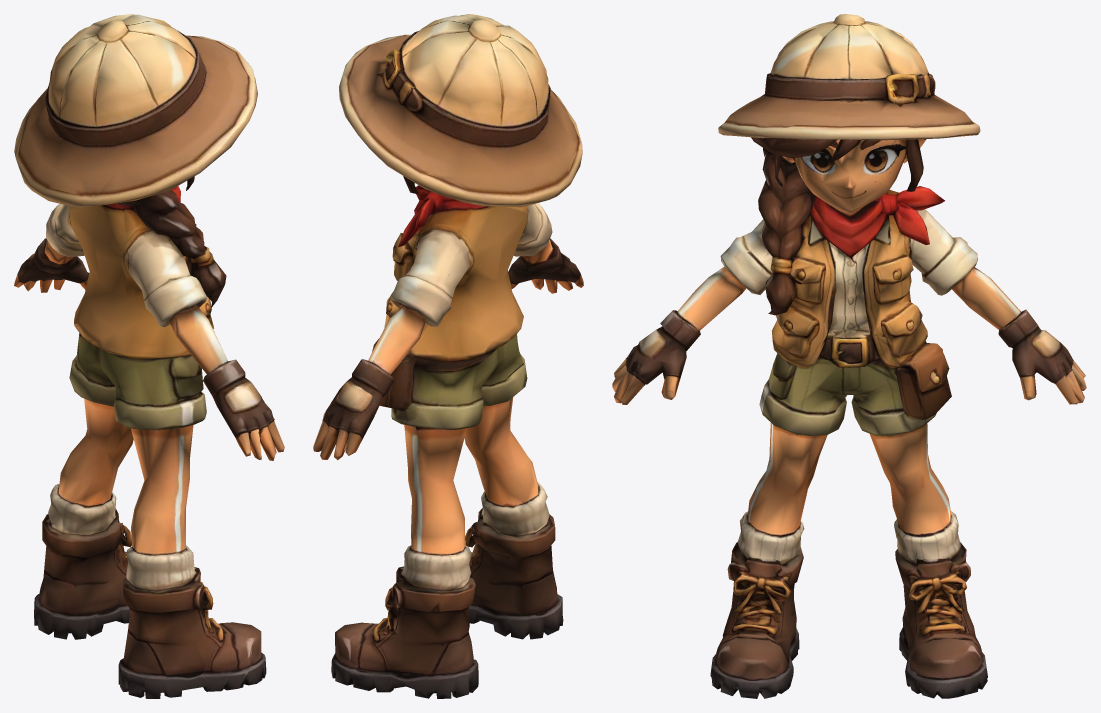
Rendered from girl.glb.
3 renders of one model, left to right at view 1: azimuth 30°, elevation 25°; view 2: azimuth 150°, elevation 25°; view 3: azimuth 270°, elevation 25°, orthographic.
Visible parts, largest first — view 1: tripo_node_192d22a7-c82c-4283-a35d-4286f5311c65; view 2: tripo_node_192d22a7-c82c-4283-a35d-4286f5311c65; view 3: tripo_node_192d22a7-c82c-4283-a35d-4286f5311c65.
Part boxes in pixels (x1,y1,x2,y2): tripo_node_192d22a7-c82c-4283-a35d-4286f5311c65: (14, 14, 284, 698); tripo_node_192d22a7-c82c-4283-a35d-4286f5311c65: (313, 14, 583, 698); tripo_node_192d22a7-c82c-4283-a35d-4286f5311c65: (612, 14, 1086, 698).
Bounding box in the file's own units: 0.3389 × 0.9993 × 0.6703.
1 material, 1 textured.
